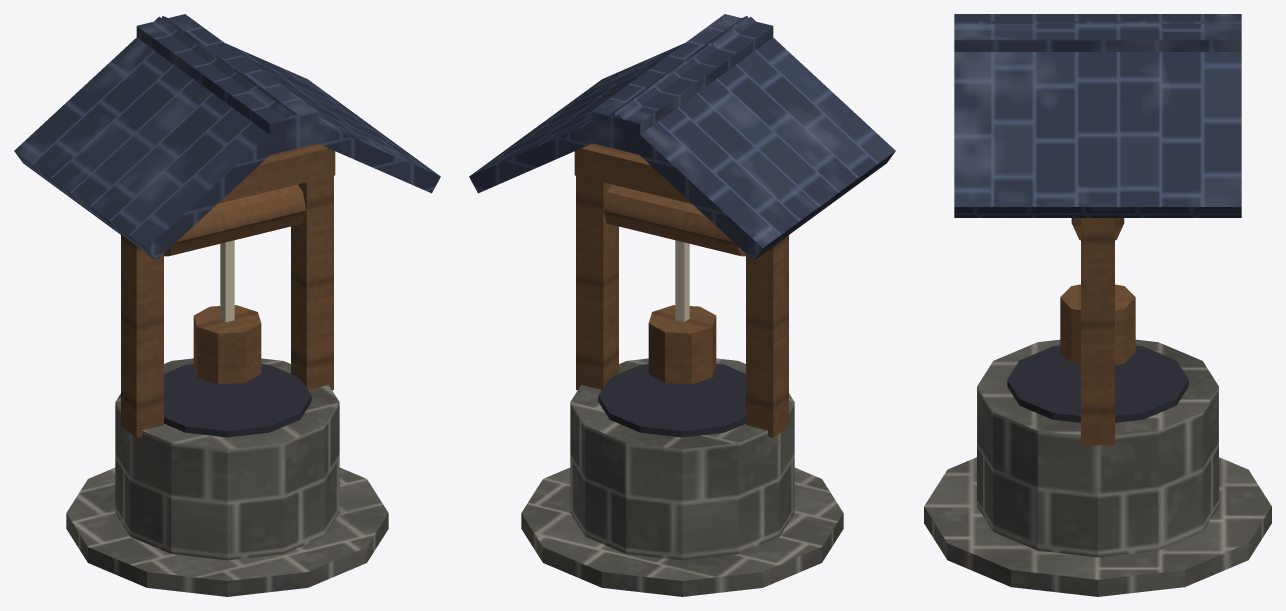
File: well.gltf
3 views of the same model, side by side, from view 1: azimuth 30°, elevation 25°; view 2: azimuth 150°, elevation 25°; view 3: azimuth 270°, elevation 25° (orthographic). The views are drawn at different scales.
Visible parts, largest first — view 1: Well; view 2: Well; view 3: Well.
Part boxes in pixels (x1=…): Well: x1=14, y1=14, x2=440, y2=596; Well: x1=469, y1=14, x2=895, y2=596; Well: x1=924, y1=14, x2=1271, y2=596.
Bounding box in the file's own units: 0.9688 × 1.46 × 0.92.
8 materials, 6 textured.
